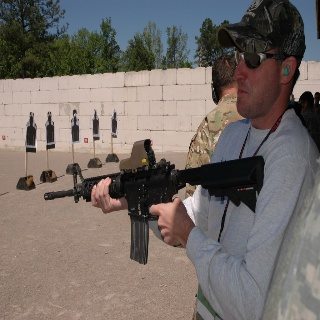rifle: (44, 137, 265, 267)
